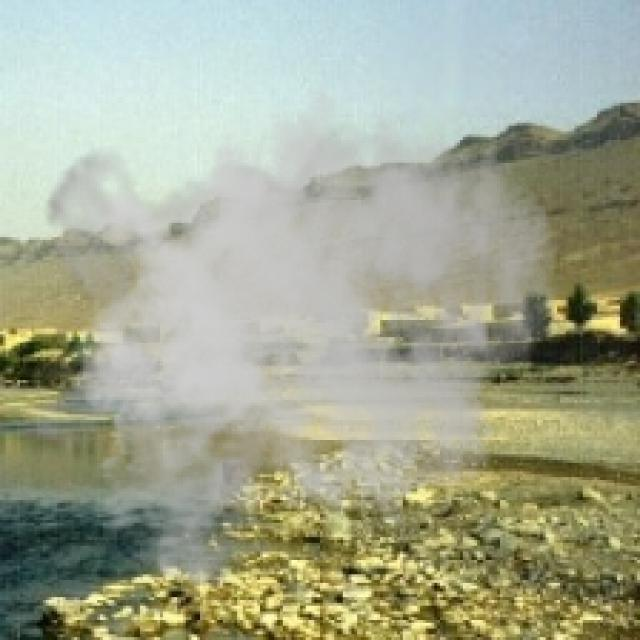smoke: (37, 60, 560, 586)
